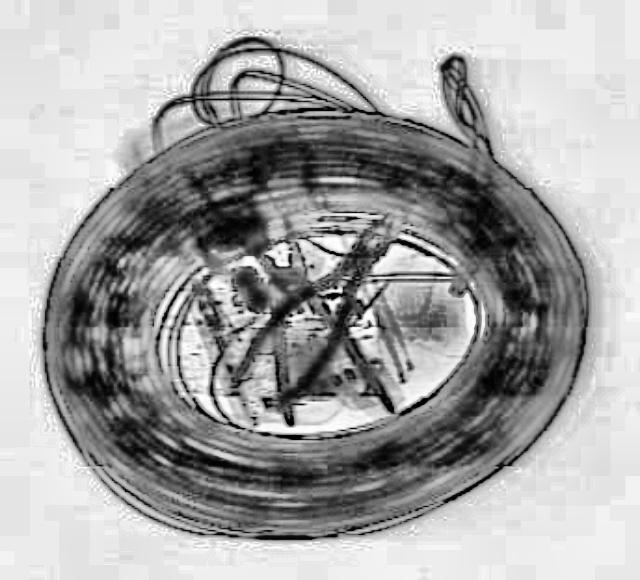Pliers: (197, 193, 397, 441), (214, 193, 426, 417)
